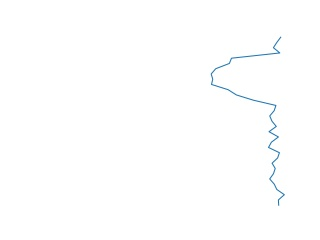distalBar: (204, 37, 292, 205)
